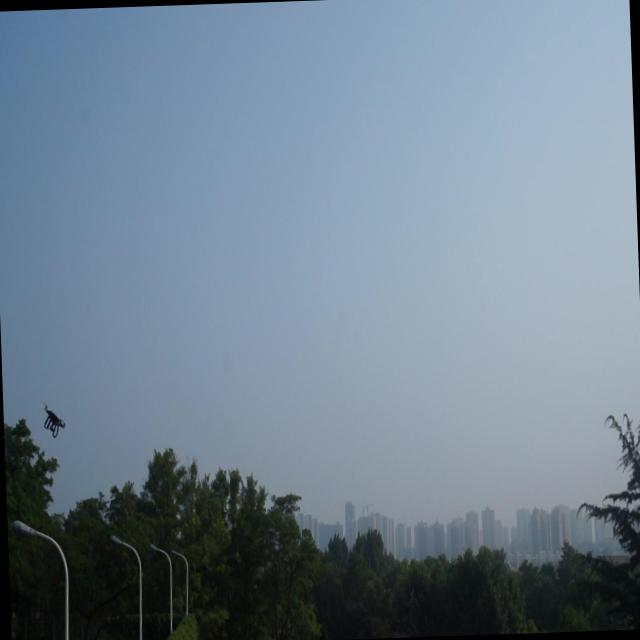drone: (40, 399, 66, 440)
